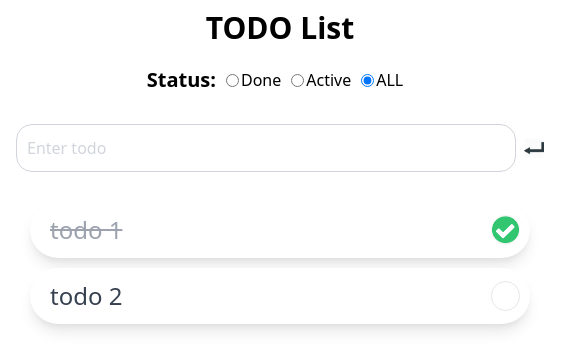
TodoApp › filter done todo
Click the label with test id "label-done".
click(261, 80)  # box x1=241 y1=68 x2=281 y2=92
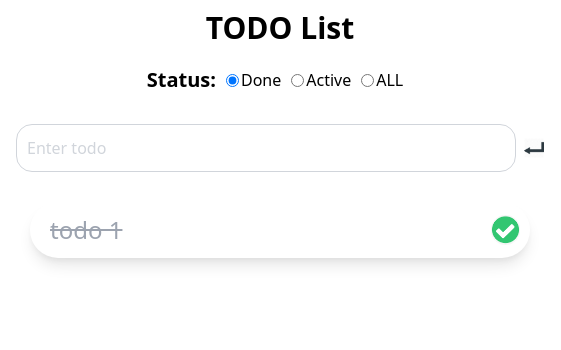
Expected: the text "todo 1" is shown, x1=50 y1=213 x2=122 y2=246
Expected: the text "todo 2" is gone
